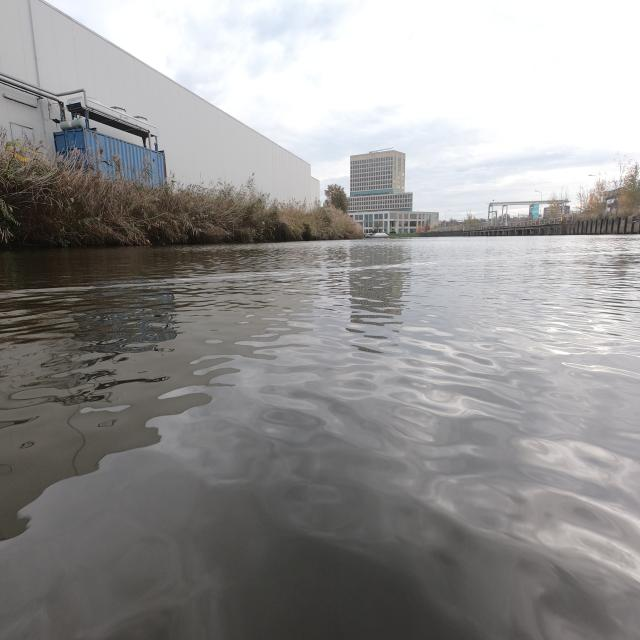boat: (373, 233, 388, 238)
reed: (0, 143, 363, 247)
sky: (52, 0, 640, 215)
wall: (434, 215, 640, 237)
water: (0, 235, 640, 640)
